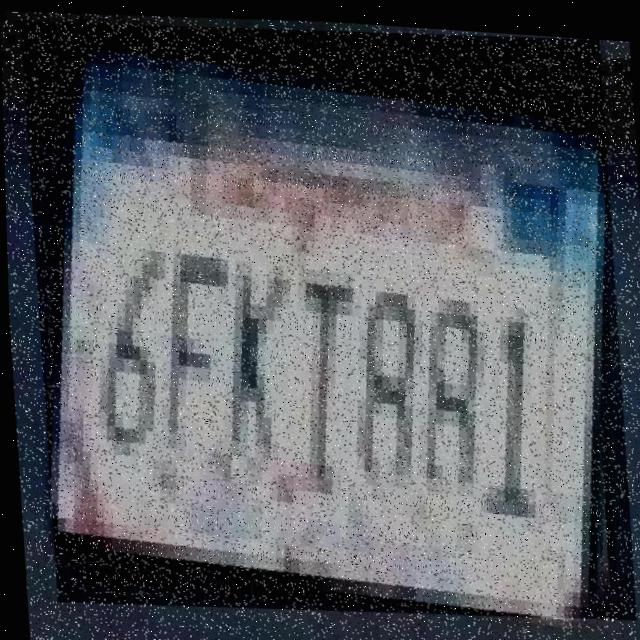LicensePlate: (19, 1, 633, 631)
